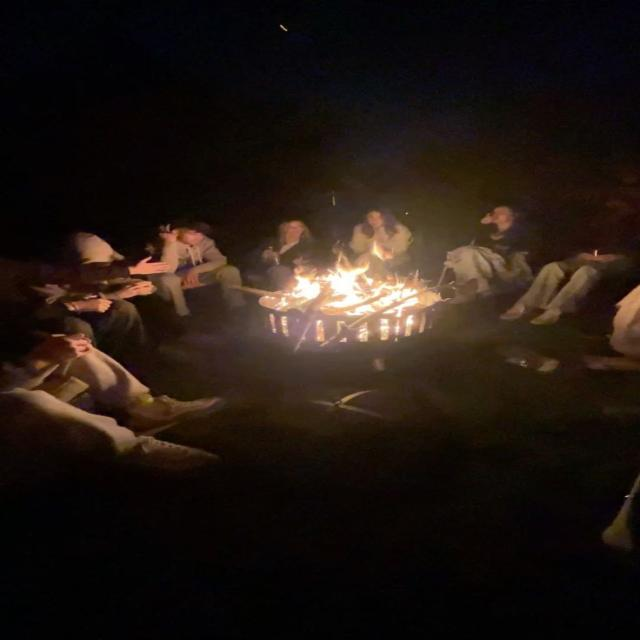fire: (277, 262, 419, 314)
